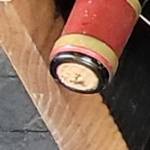bottle: (32, 24, 121, 107)
